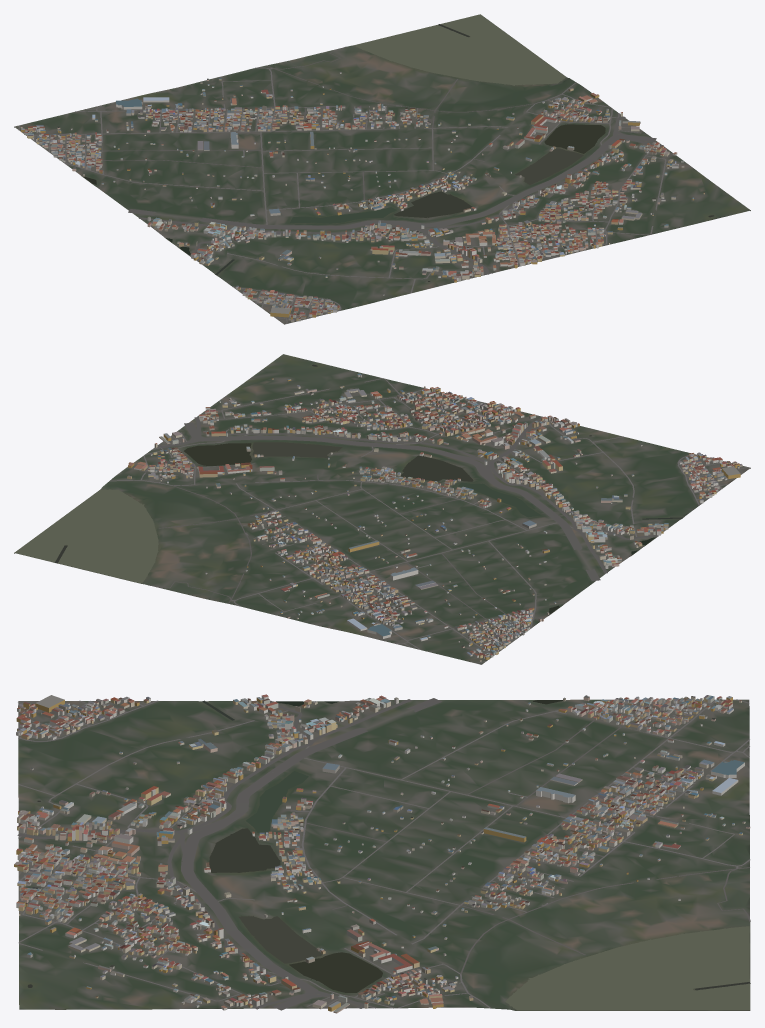
The picture shows the model from 3 angles, top to bottom: view 1: azimuth 30°, elevation 25°; view 2: azimuth 150°, elevation 25°; view 3: azimuth 270°, elevation 25°; orthographic projection. The views are drawn at different scales.
Visible parts, largest first — view 1: ground, buildings, water, roads; view 2: ground, buildings, water, roads; view 3: ground, buildings, water, roads.
Boxes of the visible parts, <box> form: ground: <box>14,15,750,324</box>; buildings: <box>20,72,704,322</box>; water: <box>83,14,713,281</box>; roads: <box>18,46,666,323</box>; ground: <box>14,354,750,664</box>; buildings: <box>127,373,742,661</box>; water: <box>15,364,682,614</box>; roads: <box>110,378,748,663</box>; ground: <box>18,699,750,1010</box>; buildings: <box>14,694,750,1013</box>; water: <box>27,700,750,1010</box>; roads: <box>17,698,750,1010</box>.
Bounding box in the file's own units: 1431 × 30.52 × 1413.
